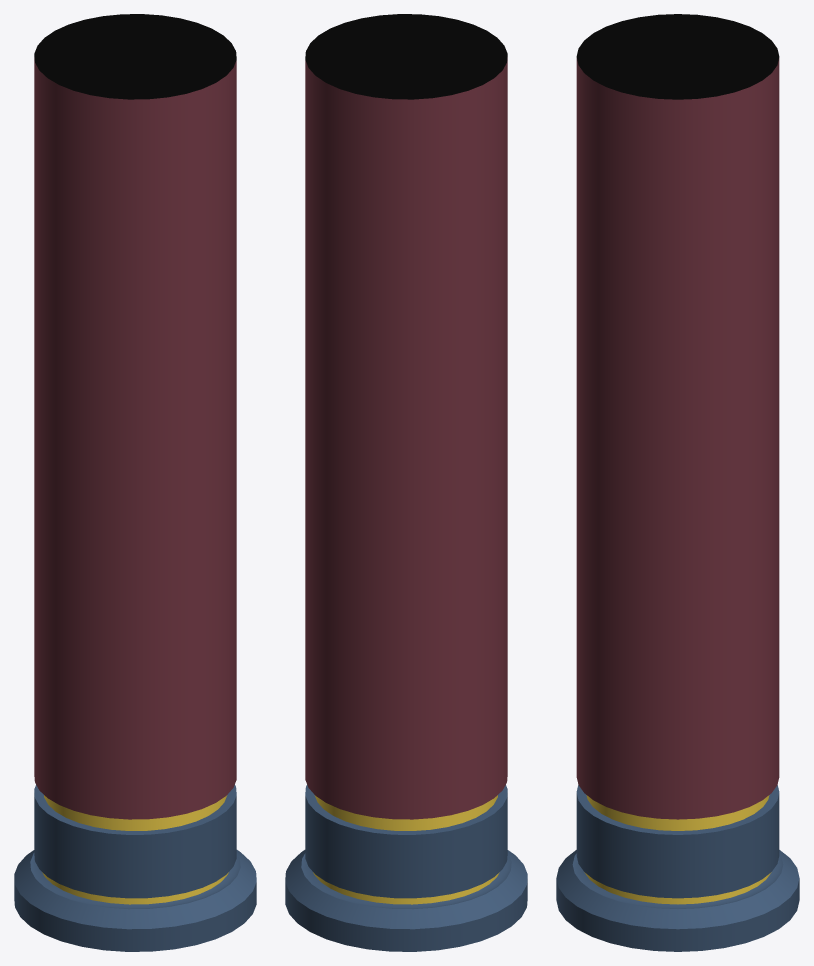
Rendered from Pillar_oriental.fbx.
The picture shows the model from 3 angles, left to right: view 1: azimuth 30°, elevation 25°; view 2: azimuth 150°, elevation 25°; view 3: azimuth 270°, elevation 25°; orthographic projection.
Parts seen in each view (by area): view 1: Cylinder.013; view 2: Cylinder.013; view 3: Cylinder.013.
Boxes of the visible parts, left/top/right/bottom form: Cylinder.013: left=14, top=14, right=256, bottom=951; Cylinder.013: left=285, top=14, right=527, bottom=951; Cylinder.013: left=556, top=14, right=799, bottom=951.
Size of the model in its own units: 839 by 3212 by 839.
